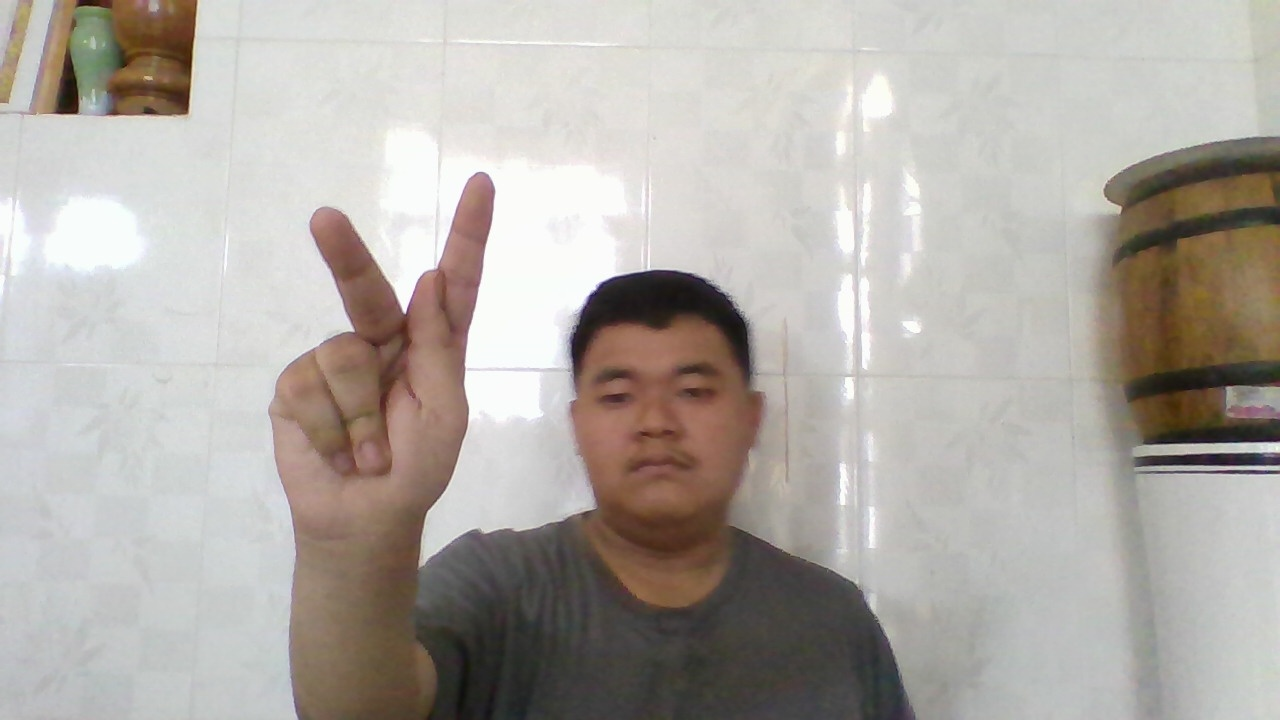K: (282, 175, 499, 542)
